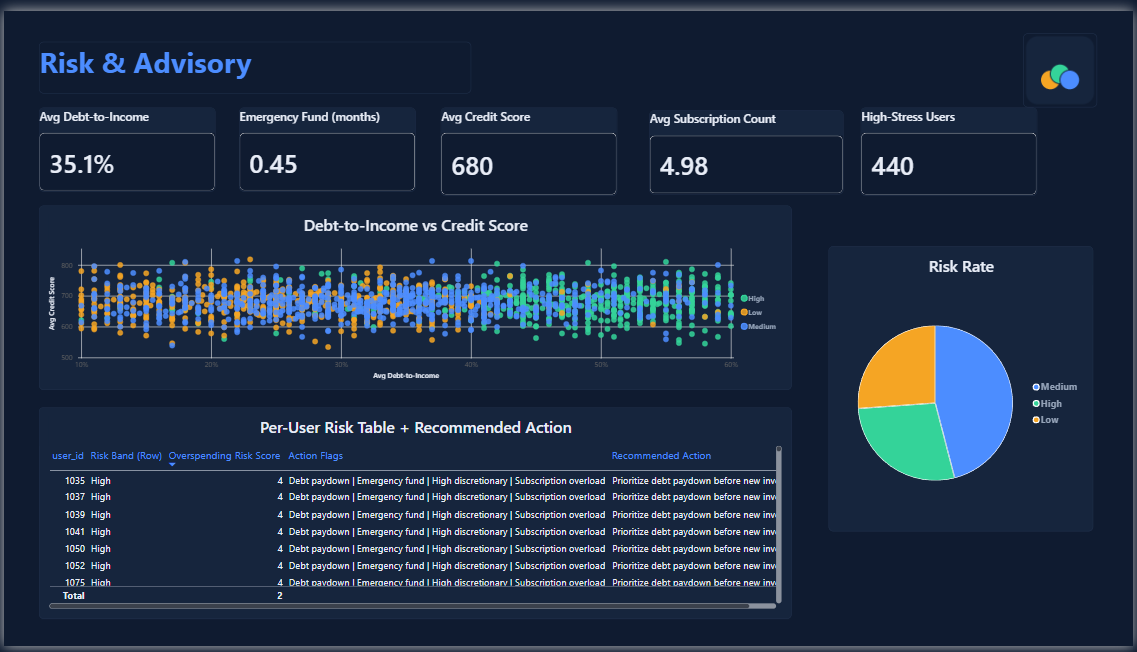

What the dashboard file says about the page in this screenshot:
{"tool":"powerbi","page":{"name":"Risk & Advisory","canvas":[1920,1080],"ordinal":4},"visuals":[{"type":"image","box":[1732.5,37.5,125.6,125.6],"z":0},{"type":"cardVisual","title":"Avg Debt-to-Income","fields":{"Data":["Fact_Finance.Avg Debt-to-Income"]},"box":[60,163.3,300,142.5],"z":1000},{"type":"cardVisual","title":"Avg Credit Score","fields":{"Data":["Fact_Finance.Avg Credit Score"]},"box":[743.3,163.3,300,150],"z":2000},{"type":"cardVisual","title":"Avg Subscription Count","fields":{"Data":["Fact_Finance.Avg Subscription Count"]},"box":[1096.7,170,330,142.5],"z":3000},{"type":"cardVisual","title":"Emergency Fund (months)","fields":{"Data":["Fact_Finance.Emergency Fund Coverage (Months)"]},"box":[400,163.3,300,142.5],"z":4000},{"type":"cardVisual","title":"High-Stress Users","fields":{"Data":["Fact_Finance.High-Stress Users"]},"box":[1456.7,163.3,300,150],"z":5000},{"type":"scatterChart","title":"Debt-to-Income vs Credit Score","fields":{"Y":["Fact_Finance.Avg Credit Score"],"X":["Fact_Finance.Avg Debt-to-Income"],"Category":["Fact_Finance.user_id"],"Series":["Fact_Finance.Risk Band (Row)"]},"box":[60,330,1280,313.3],"z":6000},{"type":"pieChart","title":"Risk Rate","fields":{"Category":["Fact_Finance.Risk Band (Row)"],"Y":["CountNonNull(Fact_Finance.user_id)"]},"box":[1403.3,400,450,485],"z":7000},{"type":"tableEx","title":"Per-User Risk Table + Recommended Action","fields":{"Values":["Fact_Finance.user_id","Fact_Finance.Risk Band (Row)","Fact_Finance.Overspending Risk Score","Fact_Finance.Action Flags","Fact_Finance.Recommended Action"]},"box":[60,673.3,1280,360],"z":8000},{"type":"textbox","box":[59.2,53.1,734.7,87.8],"z":9000}]}

Visuals, with their boxes in screenshot pixels (x1, y1, x2, y2), scaled from the page's 1920x1080 canvas onto the 1137x652 screenshot:
image: left=1026, top=23, right=1100, bottom=98
"Avg Debt-to-Income" cardVisual: left=36, top=99, right=213, bottom=185
"Avg Credit Score" cardVisual: left=440, top=99, right=618, bottom=189
"Avg Subscription Count" cardVisual: left=649, top=103, right=845, bottom=189
"Emergency Fund (months)" cardVisual: left=237, top=99, right=415, bottom=185
"High-Stress Users" cardVisual: left=863, top=99, right=1040, bottom=189
"Debt-to-Income vs Credit Score" scatterChart: left=36, top=199, right=794, bottom=388
"Risk Rate" pieChart: left=831, top=241, right=1098, bottom=534
"Per-User Risk Table + Recommended Action" tableEx: left=36, top=406, right=794, bottom=624
textbox: left=35, top=32, right=470, bottom=85
